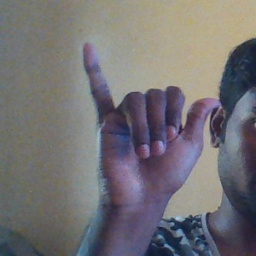J: (82, 39, 227, 209)
